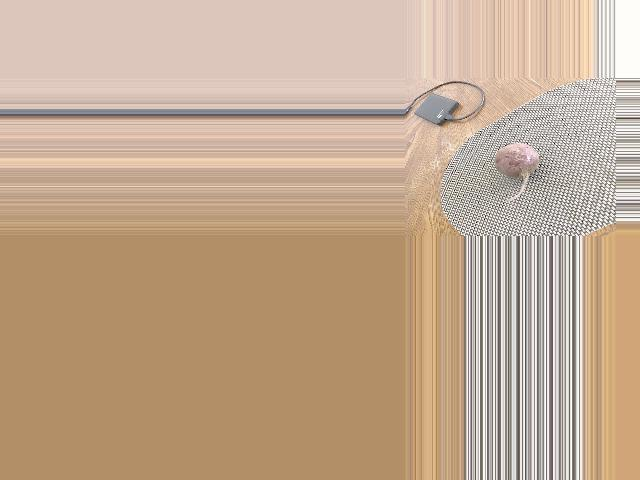beet: (494, 144, 538, 202)
